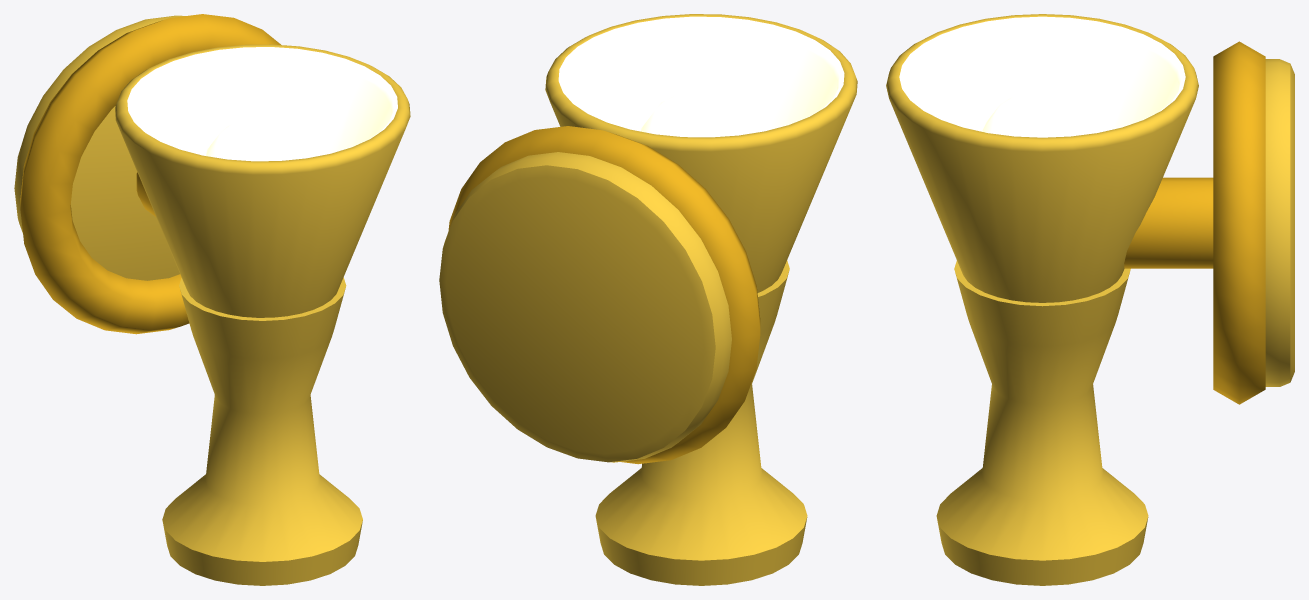
The model's file is arandela_taca.glb.
3 renders of one model, left to right at view 1: azimuth 30°, elevation 25°; view 2: azimuth 150°, elevation 25°; view 3: azimuth 270°, elevation 25°, orthographic. The views are drawn at different scales.
Visible parts, largest first — view 1: arandela_taca; view 2: arandela_taca; view 3: arandela_taca.
Part boxes in pixels (bbox=[...]): arandela_taca: bbox=[14, 14, 410, 585]; arandela_taca: bbox=[439, 14, 857, 585]; arandela_taca: bbox=[886, 14, 1294, 585].
Bounding box in the file's own units: 0.144 × 0.212 × 0.162.
Materials: 2 (1 with a texture image).
